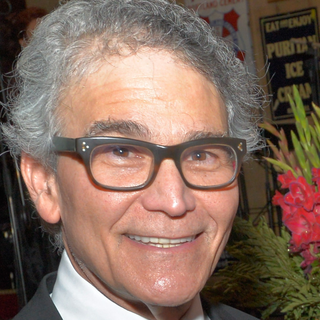eye: (103, 138, 146, 162), (181, 143, 221, 168)
